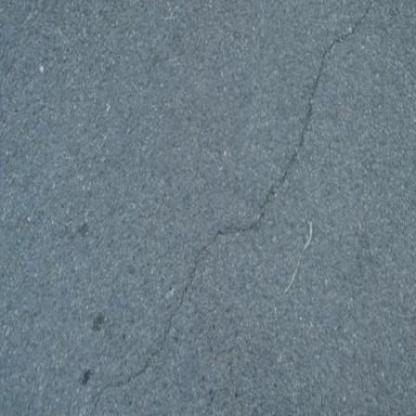Cracks: (82, 211, 275, 416), (237, 6, 409, 230)
